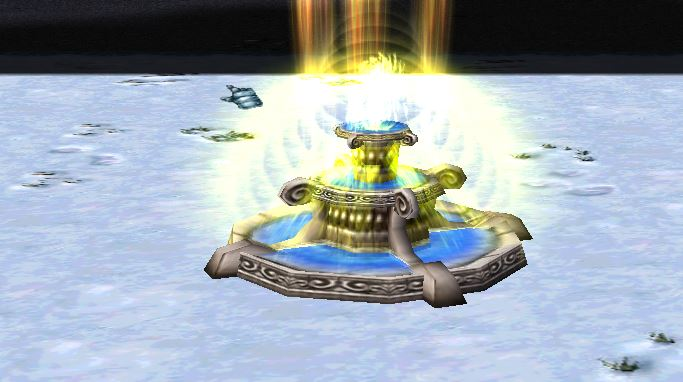sunwell: (222, 111, 545, 304)
